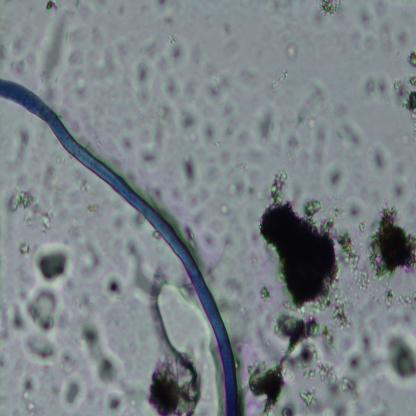Air bubble: (148, 271, 221, 416)
Background material: (263, 170, 342, 316), (243, 310, 342, 416), (0, 279, 61, 371), (367, 189, 416, 295), (133, 31, 188, 99), (78, 318, 124, 391), (148, 361, 203, 416), (340, 322, 384, 387), (39, 7, 69, 100), (5, 185, 64, 231), (334, 227, 371, 296), (183, 187, 224, 248), (292, 78, 336, 131), (33, 239, 76, 292), (391, 47, 416, 128), (383, 326, 416, 386), (300, 382, 353, 416), (242, 101, 281, 147), (179, 110, 221, 150), (58, 354, 84, 410), (96, 264, 135, 301), (5, 122, 33, 172), (308, 0, 352, 29), (9, 34, 39, 76), (18, 373, 46, 416), (135, 260, 160, 306), (360, 70, 393, 99), (107, 390, 142, 416), (202, 65, 230, 97), (313, 124, 334, 166), (78, 246, 101, 284), (115, 231, 142, 260), (370, 140, 392, 174), (347, 122, 369, 154), (223, 275, 242, 312), (269, 65, 295, 92), (180, 151, 200, 182), (326, 162, 346, 190), (138, 149, 163, 169), (228, 180, 254, 199), (71, 68, 86, 94), (117, 134, 134, 156), (286, 130, 298, 154), (285, 43, 299, 63), (257, 284, 273, 300), (38, 0, 59, 12), (14, 241, 30, 256), (150, 0, 168, 13), (85, 204, 98, 216)
Microfibre: (0, 74, 240, 416)
